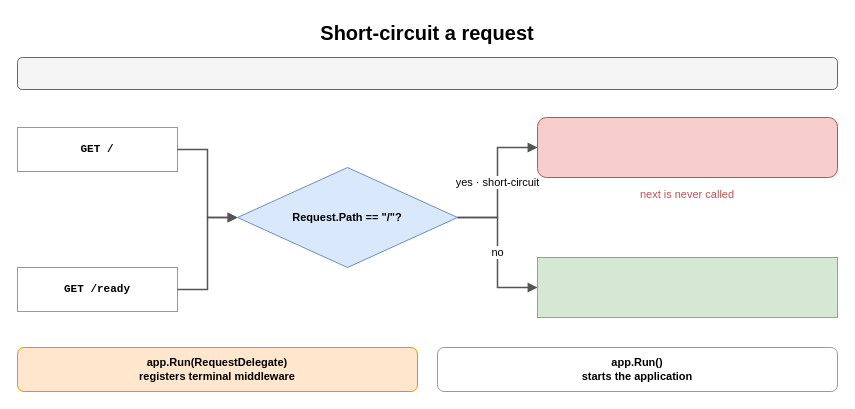
This 855x409 diagram has some shape labels left out. Each missing label, with the centre of its shape:
await next(context) → MapGet("/ready") → "ready": [687,287]
StatusCode = 503 WriteAsync("Reading room opens soon") · return: [687,147]
Write the response and omit the next call: [427,73]
